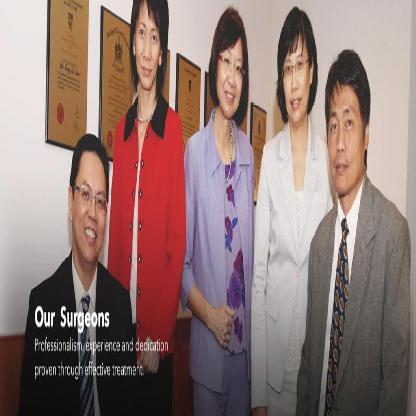face: (77, 149, 108, 261), (329, 87, 360, 191), (283, 34, 312, 126), (137, 1, 163, 89), (221, 47, 243, 113)
